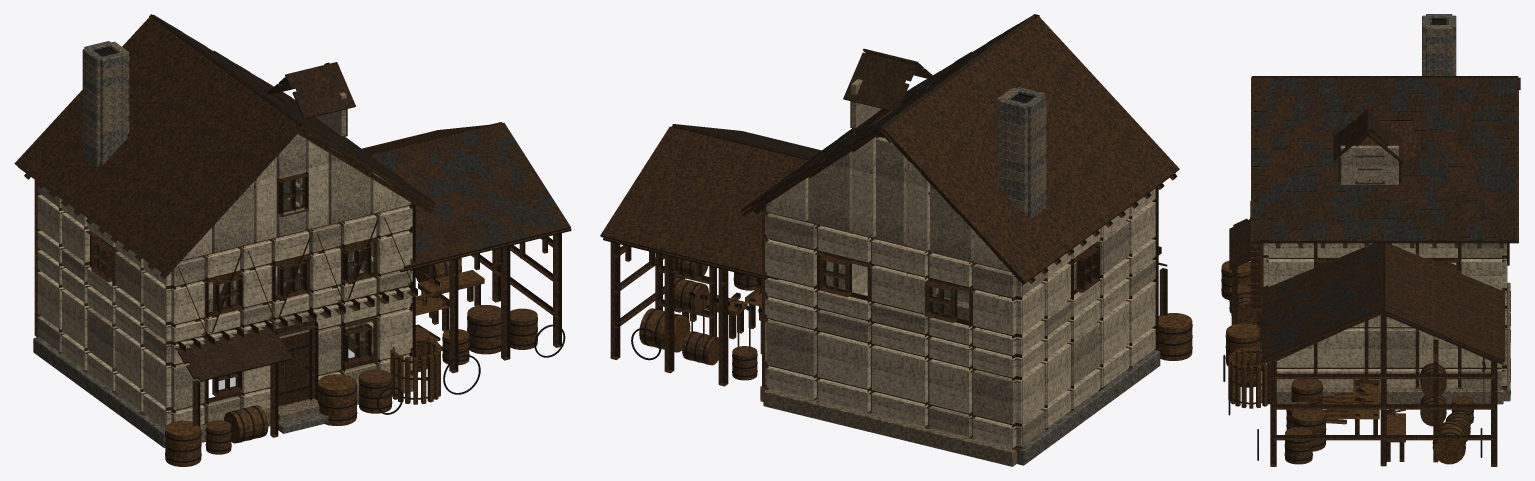
The model's file is medieval_cooperage_house_3d_runtime.glb.
3 views of the same model, side by side, from view 1: azimuth 30°, elevation 25°; view 2: azimuth 150°, elevation 25°; view 3: azimuth 270°, elevation 25° (orthographic). The views are drawn at different scales.
Parts seen in each view (by area): view 1: RUNTIME_BATCH_009_MAT_COOPERAGE_OAK_DARK, RUNTIME_BATCH_018_MAT_COOPERAGE_PLASTER_AGED, RUNTIME_BATCH_020_MAT_COOPERAGE_PLASTER_AGED, RUNTIME_BATCH_033_MAT_COOPERAGE_SHINGLE_B, RUNTIME_BATCH_035_MAT_COOPERAGE_SHINGLE_A, RUNTIME_BATCH_037_MAT_COOPERAGE_FRESH_OAK, RUNTIME_BATCH_022_MAT_COOPERAGE_PLASTER_AGED, RUNTIME_BATCH_025_MAT_COOPERAGE_PLASTER_WORN, RUNTIME_BATCH_034_MAT_COOPERAGE_SHINGLE_C, RUNTIME_BATCH_040_MAT_COOPERAGE_OAK_MID, RUNTIME_BATCH_006_MAT_COOPERAGE_OAK_DARK, RUNTIME_BATCH_016_MAT_COOPERAGE_PLASTER_AGED (+29 smaller); view 2: RUNTIME_BATCH_009_MAT_COOPERAGE_OAK_DARK, RUNTIME_BATCH_020_MAT_COOPERAGE_PLASTER_AGED, RUNTIME_BATCH_022_MAT_COOPERAGE_PLASTER_AGED, RUNTIME_BATCH_032_MAT_COOPERAGE_OAK_DARK, RUNTIME_BATCH_021_MAT_COOPERAGE_PLASTER_WORN, RUNTIME_BATCH_025_MAT_COOPERAGE_PLASTER_WORN, RUNTIME_BATCH_004_MAT_COOPERAGE_OAK_DARK, RUNTIME_BATCH_024_MAT_COOPERAGE_PLASTER_AGED, RUNTIME_BATCH_023_MAT_COOPERAGE_PLASTER_WORN, RUNTIME_BATCH_041_MAT_COOPERAGE_OAK_DARK, RUNTIME_BATCH_000_MAT_COOPERAGE_STONE_WARM, RUNTIME_BATCH_031_MAT_COOPERAGE_SHINGLE_A (+14 smaller); view 3: RUNTIME_BATCH_029_MAT_COOPERAGE_SHINGLE_C, RUNTIME_BATCH_031_MAT_COOPERAGE_SHINGLE_A, RUNTIME_BATCH_030_MAT_COOPERAGE_SHINGLE_B, RUNTIME_BATCH_032_MAT_COOPERAGE_OAK_DARK, RUNTIME_BATCH_020_MAT_COOPERAGE_PLASTER_AGED, RUNTIME_BATCH_044_MAT_COOPERAGE_OAK_DARK, RUNTIME_BATCH_033_MAT_COOPERAGE_SHINGLE_B, RUNTIME_BATCH_040_MAT_COOPERAGE_OAK_MID, RUNTIME_BATCH_037_MAT_COOPERAGE_FRESH_OAK, RUNTIME_BATCH_022_MAT_COOPERAGE_PLASTER_AGED, RUNTIME_BATCH_035_MAT_COOPERAGE_SHINGLE_A, RUNTIME_BATCH_009_MAT_COOPERAGE_OAK_DARK (+15 smaller).
Part boxes in pixels (box(x1,y1,x2,y2)): RUNTIME_BATCH_009_MAT_COOPERAGE_OAK_DARK: box(14, 15, 434, 278); RUNTIME_BATCH_018_MAT_COOPERAGE_PLASTER_AGED: box(171, 206, 410, 342); RUNTIME_BATCH_020_MAT_COOPERAGE_PLASTER_AGED: box(37, 193, 412, 428); RUNTIME_BATCH_033_MAT_COOPERAGE_SHINGLE_B: box(191, 122, 570, 381); RUNTIME_BATCH_035_MAT_COOPERAGE_SHINGLE_A: box(177, 127, 567, 379); RUNTIME_BATCH_037_MAT_COOPERAGE_FRESH_OAK: box(165, 258, 469, 466); RUNTIME_BATCH_022_MAT_COOPERAGE_PLASTER_AGED: box(37, 178, 412, 341); RUNTIME_BATCH_025_MAT_COOPERAGE_PLASTER_WORN: box(212, 92, 370, 252); RUNTIME_BATCH_034_MAT_COOPERAGE_SHINGLE_C: box(377, 130, 569, 256); RUNTIME_BATCH_040_MAT_COOPERAGE_OAK_MID: box(206, 305, 537, 454); RUNTIME_BATCH_006_MAT_COOPERAGE_OAK_DARK: box(171, 217, 417, 353); RUNTIME_BATCH_016_MAT_COOPERAGE_PLASTER_AGED: box(171, 287, 410, 424); RUNTIME_BATCH_009_MAT_COOPERAGE_OAK_DARK: box(742, 14, 1179, 283); RUNTIME_BATCH_020_MAT_COOPERAGE_PLASTER_AGED: box(765, 261, 1155, 447); RUNTIME_BATCH_022_MAT_COOPERAGE_PLASTER_AGED: box(765, 137, 1155, 355); RUNTIME_BATCH_032_MAT_COOPERAGE_OAK_DARK: box(600, 126, 808, 279); RUNTIME_BATCH_021_MAT_COOPERAGE_PLASTER_WORN: box(765, 259, 1155, 446); RUNTIME_BATCH_025_MAT_COOPERAGE_PLASTER_WORN: box(808, 79, 973, 261); RUNTIME_BATCH_004_MAT_COOPERAGE_OAK_DARK: box(762, 187, 1158, 450); RUNTIME_BATCH_024_MAT_COOPERAGE_PLASTER_AGED: box(766, 137, 1010, 271); RUNTIME_BATCH_023_MAT_COOPERAGE_PLASTER_WORN: box(765, 212, 1129, 335); RUNTIME_BATCH_041_MAT_COOPERAGE_OAK_DARK: box(610, 242, 749, 386); RUNTIME_BATCH_000_MAT_COOPERAGE_STONE_WARM: box(760, 294, 1016, 466); RUNTIME_BATCH_031_MAT_COOPERAGE_SHINGLE_A: box(741, 19, 1166, 275); RUNTIME_BATCH_029_MAT_COOPERAGE_SHINGLE_C: box(1253, 78, 1516, 241); RUNTIME_BATCH_031_MAT_COOPERAGE_SHINGLE_A: box(1253, 77, 1520, 241); RUNTIME_BATCH_030_MAT_COOPERAGE_SHINGLE_B: box(1253, 77, 1516, 241); RUNTIME_BATCH_032_MAT_COOPERAGE_OAK_DARK: box(1263, 243, 1504, 363); RUNTIME_BATCH_020_MAT_COOPERAGE_PLASTER_AGED: box(1276, 262, 1506, 387); RUNTIME_BATCH_044_MAT_COOPERAGE_OAK_DARK: box(1273, 314, 1493, 466); RUNTIME_BATCH_033_MAT_COOPERAGE_SHINGLE_B: box(1229, 222, 1490, 359); RUNTIME_BATCH_040_MAT_COOPERAGE_OAK_MID: box(1229, 285, 1473, 464); RUNTIME_BATCH_037_MAT_COOPERAGE_FRESH_OAK: box(1221, 260, 1465, 464); RUNTIME_BATCH_022_MAT_COOPERAGE_PLASTER_AGED: box(1268, 243, 1506, 305); RUNTIME_BATCH_035_MAT_COOPERAGE_SHINGLE_A: box(1229, 217, 1499, 362); RUNTIME_BATCH_009_MAT_COOPERAGE_OAK_DARK: box(1251, 76, 1518, 248).
Size of the model in its own units: 12.9 by 9.42 by 8.85.
13 materials, 13 textured.
